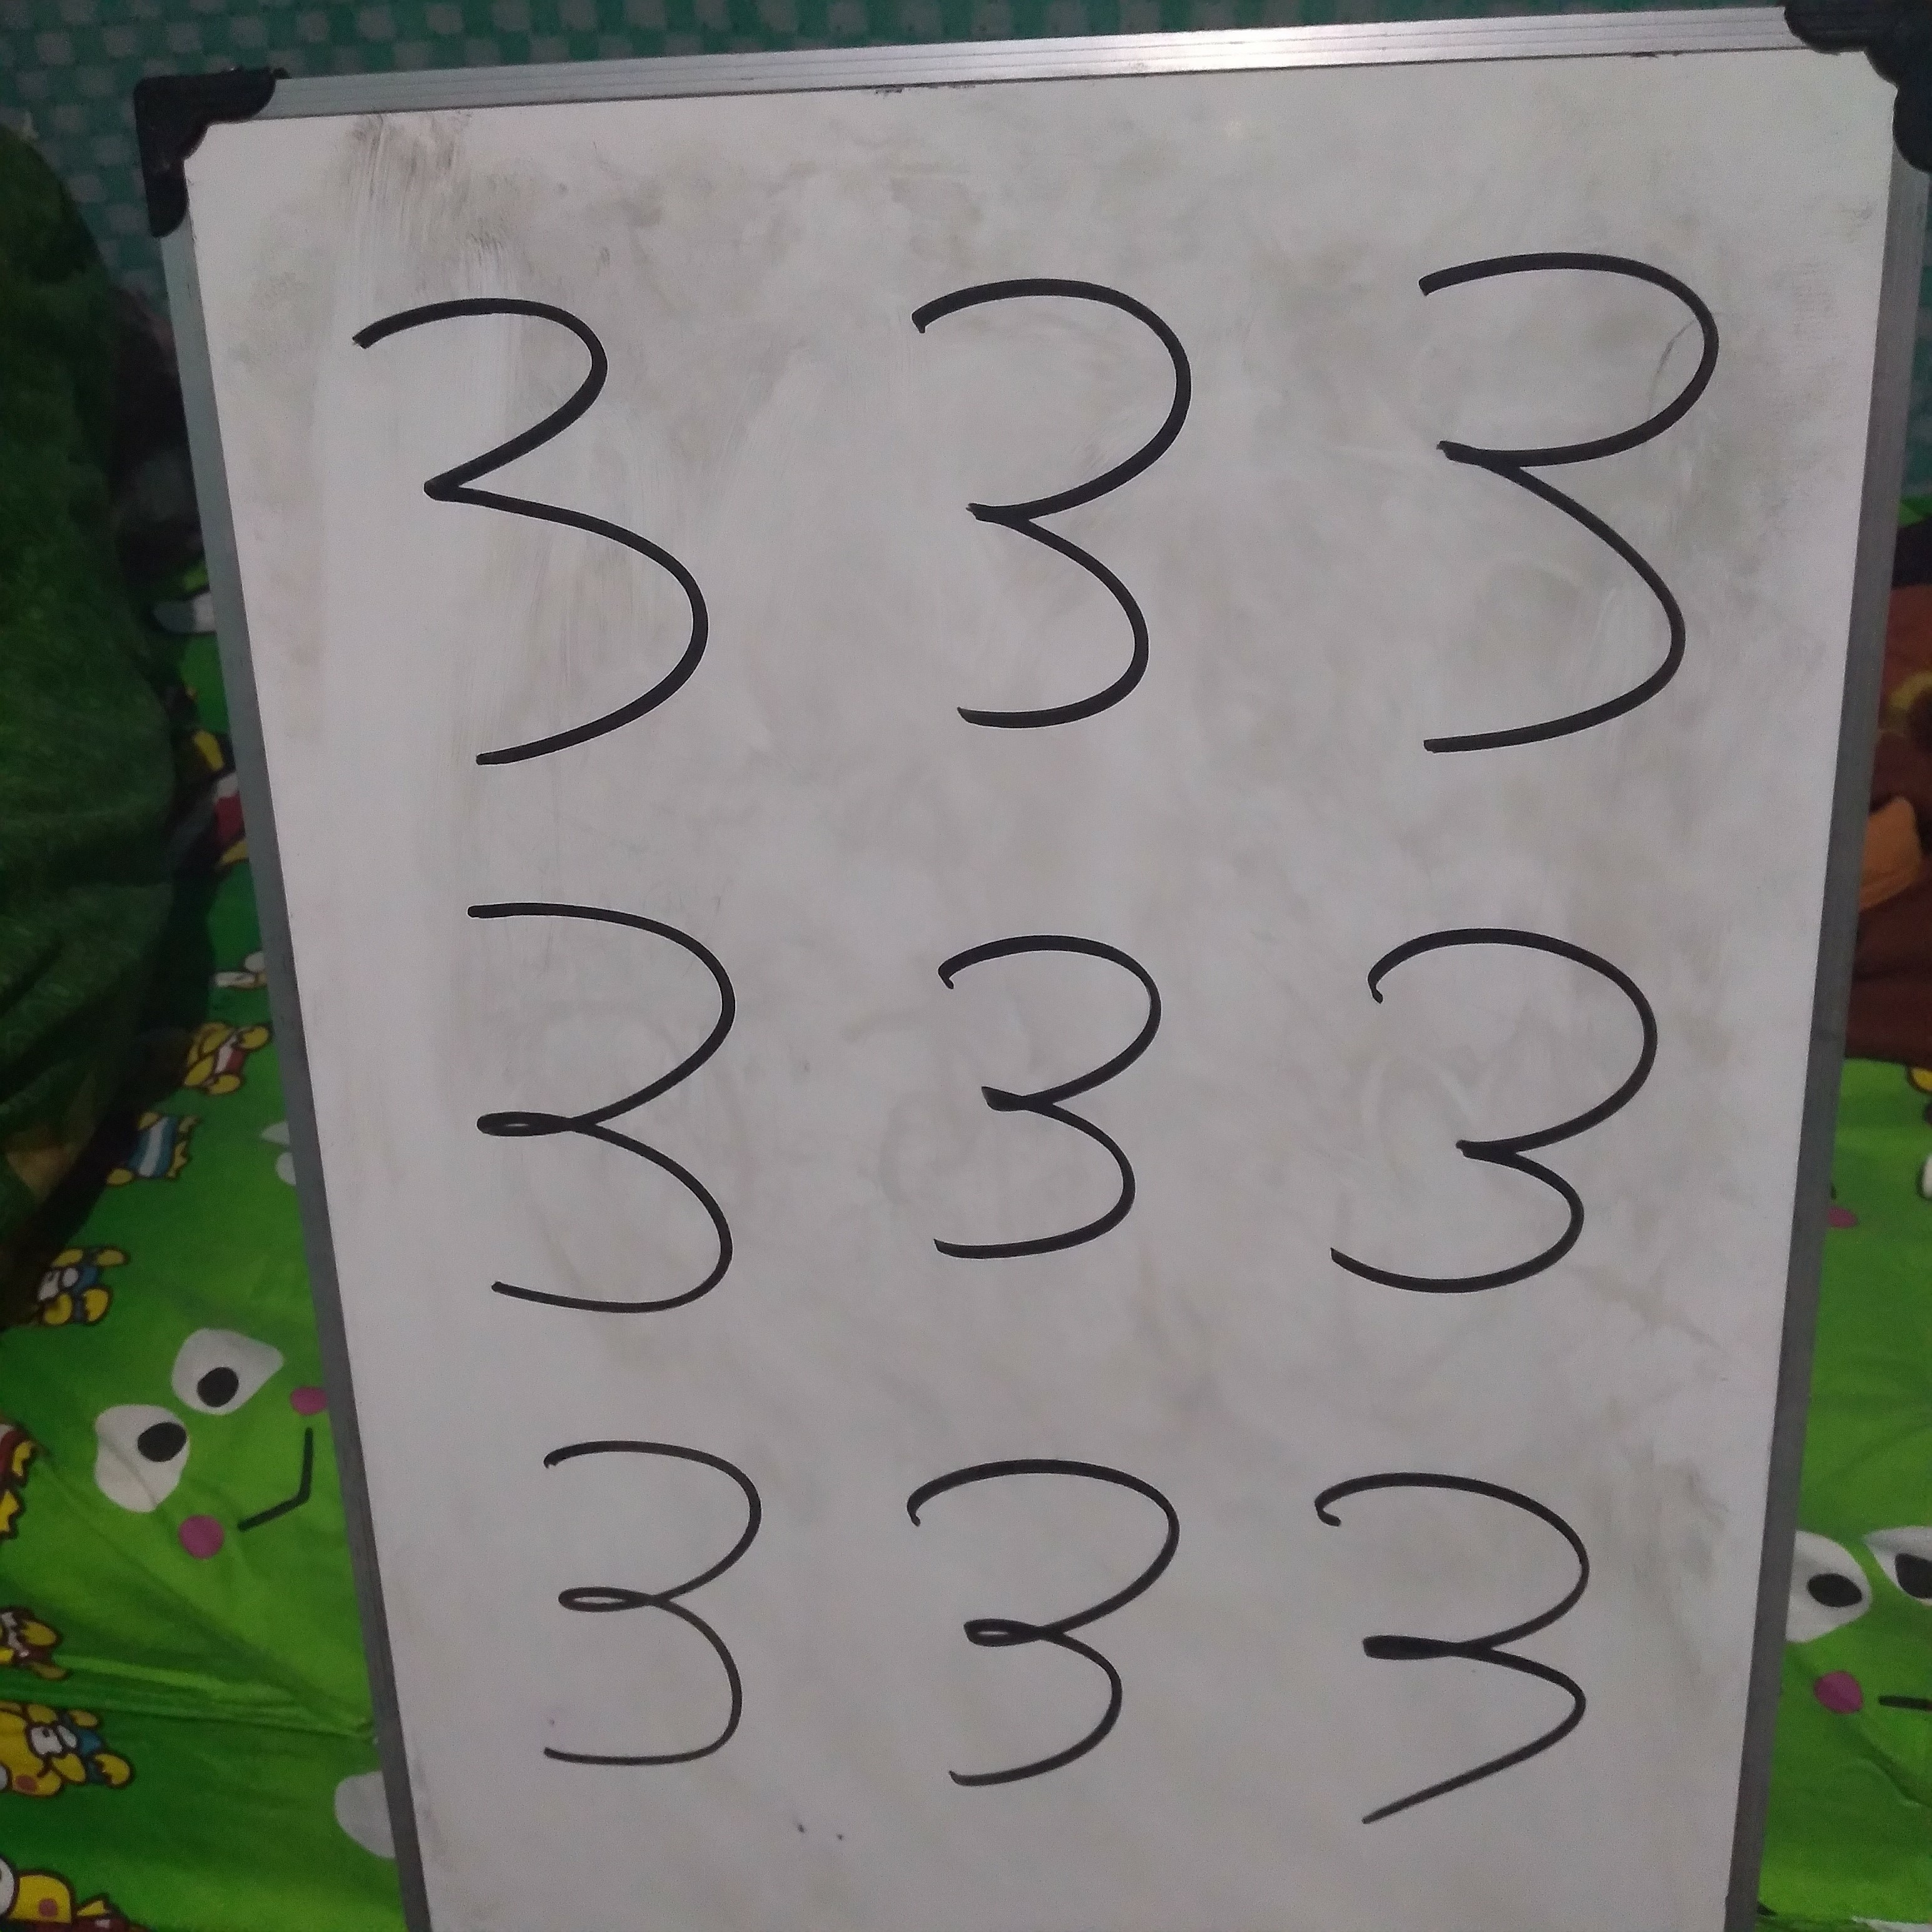num3: (402, 831, 808, 1354), (1363, 246, 1769, 769), (1316, 836, 1721, 1359), (470, 1357, 875, 1880), (335, 263, 741, 786), (848, 233, 1253, 756), (1256, 1380, 1661, 1903), (855, 1358, 1260, 1881), (882, 841, 1287, 1365)
